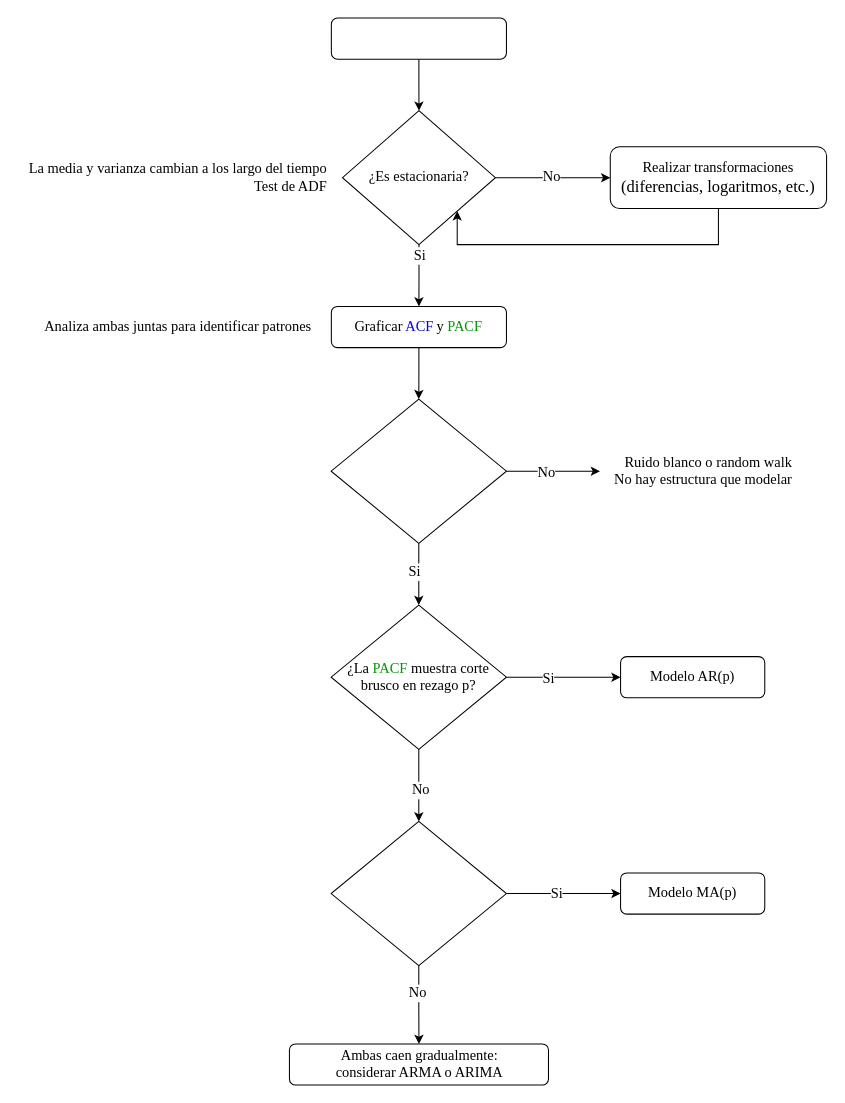
Image size: 845x1103. Some labels were removed from this diagram. Here are the shapes that lost their labels. From the top down, the centre of each, then its label:
At [418,38]: "Obtener la serie de tiempo".
At [418,470]: "¿Existe autocorrelación significativa?".
At [418,893]: "¿La ACF muestra corte brusco en rezago p?".
